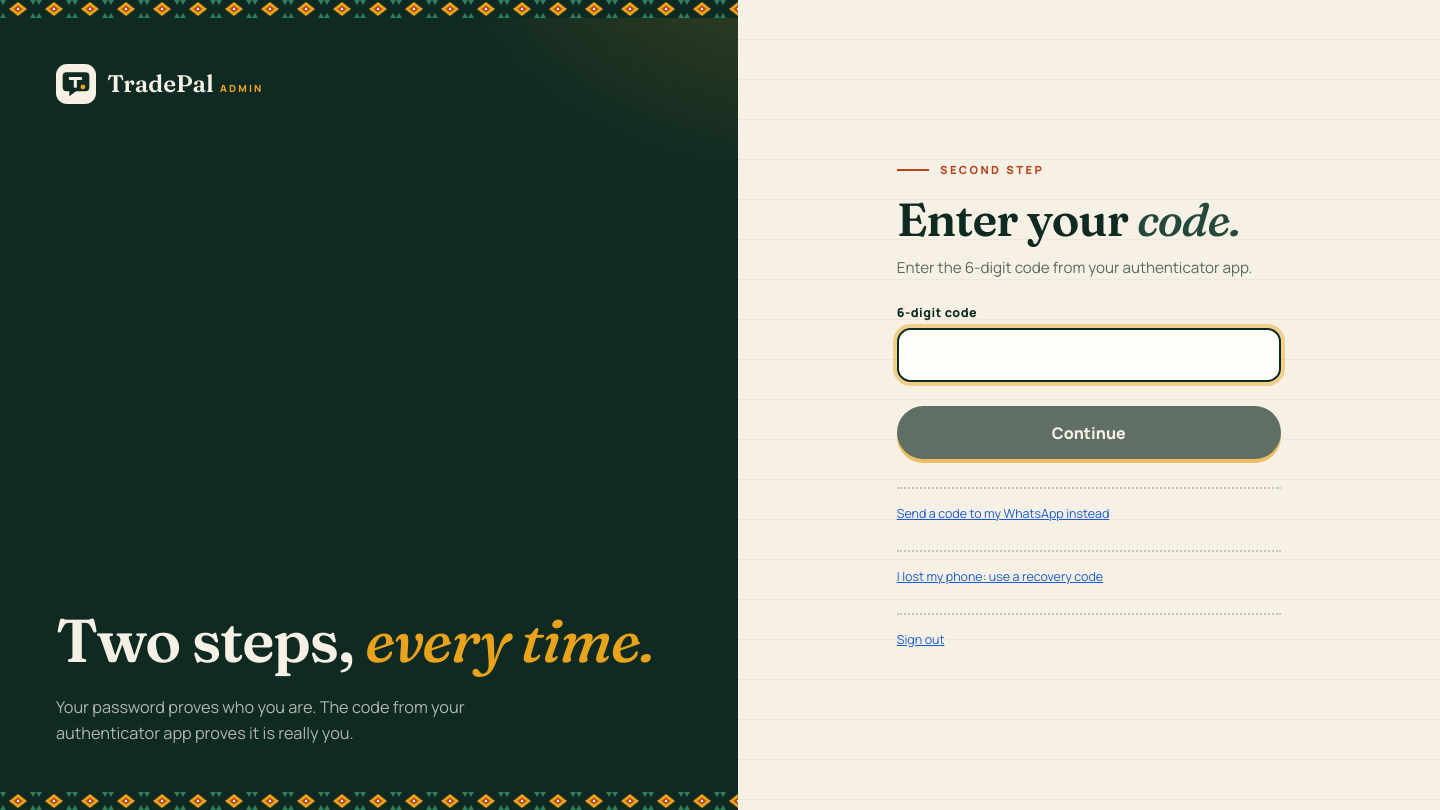
authenticator step › lets someone with both choose either way, and still offers a recovery code
Expected: the text "Enter the 6-digit code from your authenticator app." is shown, [897,257,1281,280]
Click the button "Send a code to my WhatsApp instead" at [1003, 513], box [897,505,1109,522]
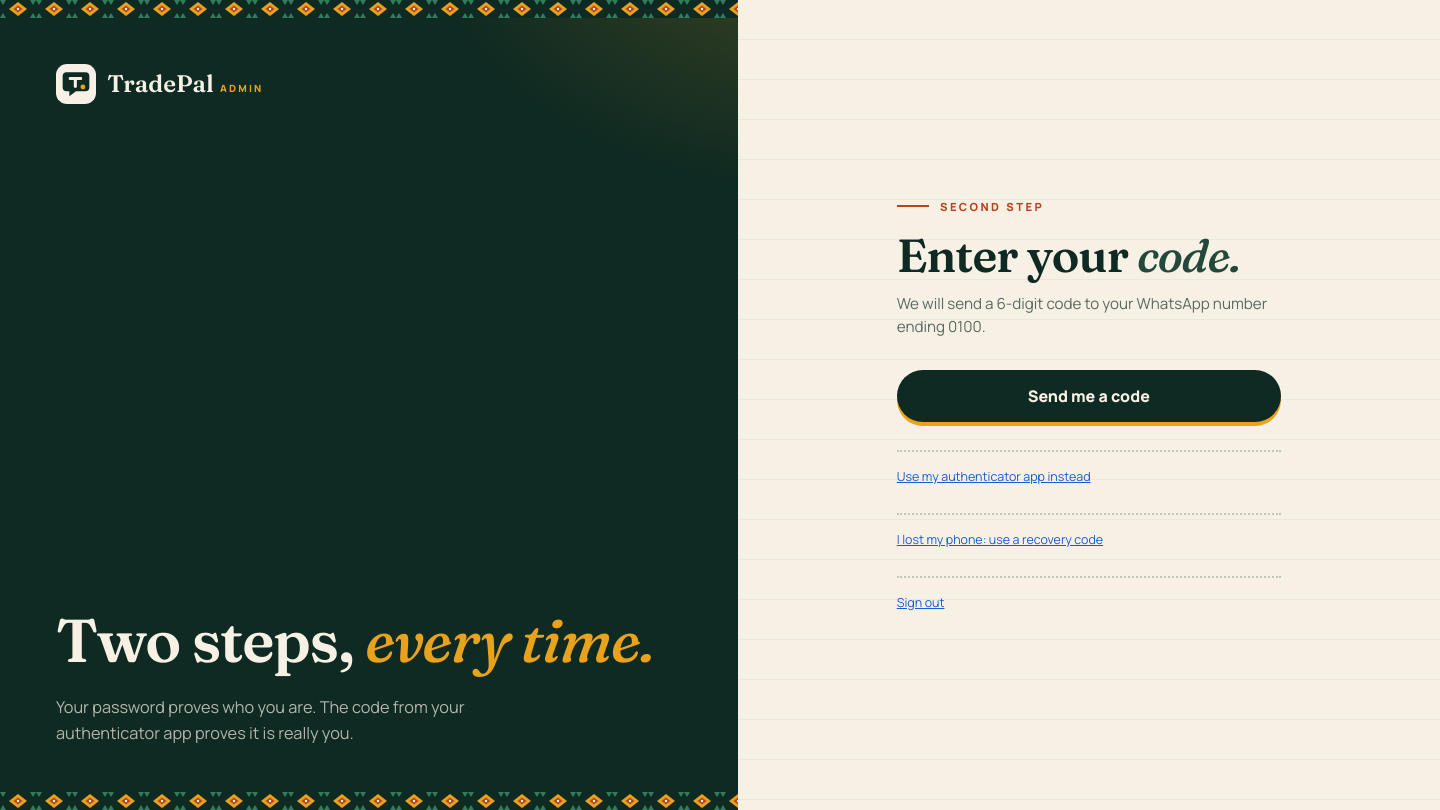
Expected: the button "Send me a code" is shown, [897,370,1281,422]
Click the button "Use my authenticator app instead" at [994, 477], box [897,468,1091,485]
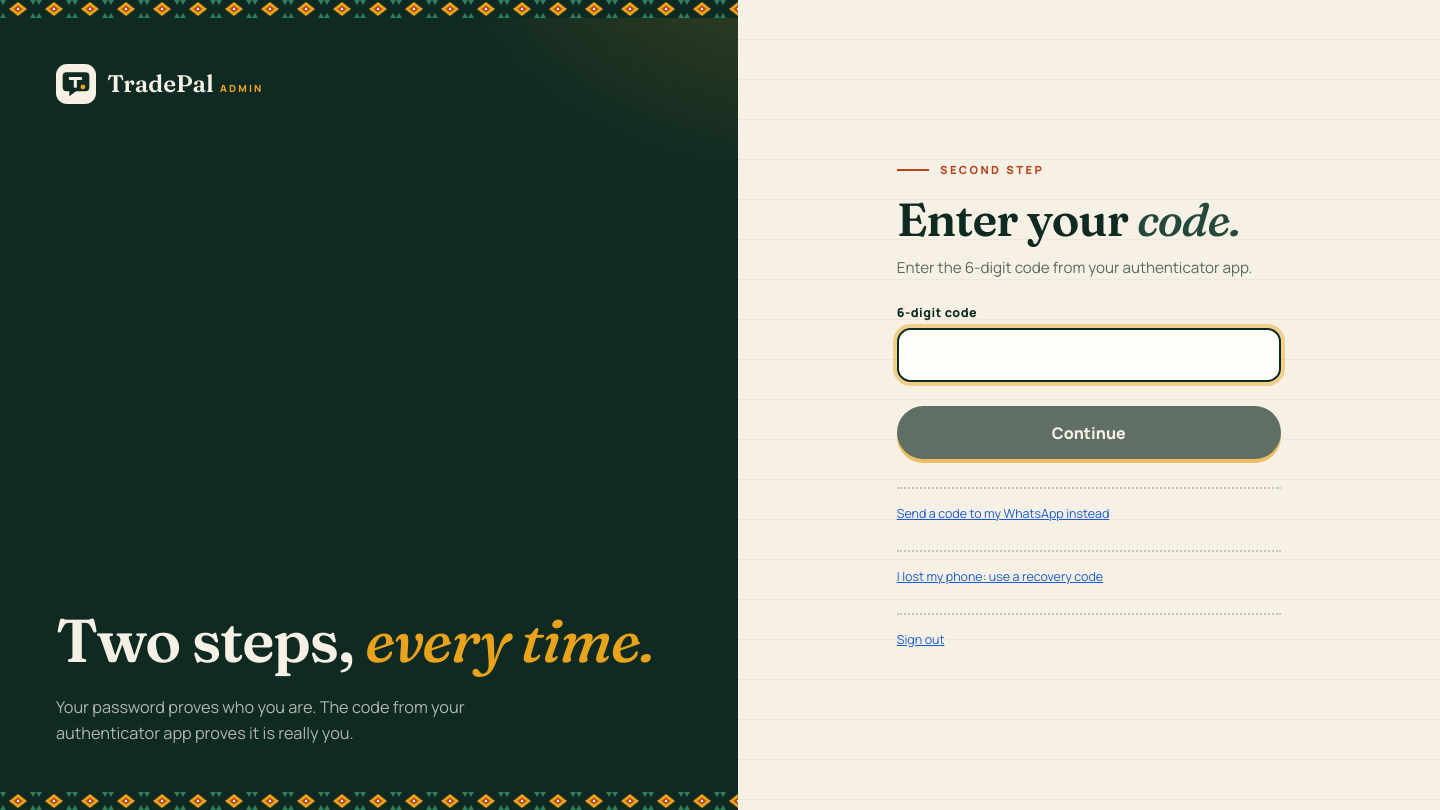
Expected: the button "I lost my phone: use a recovery code" is shown, [897,568,1103,585]
Expected: the field labelled "6-digit code" is shown, [897,328,1281,382]
